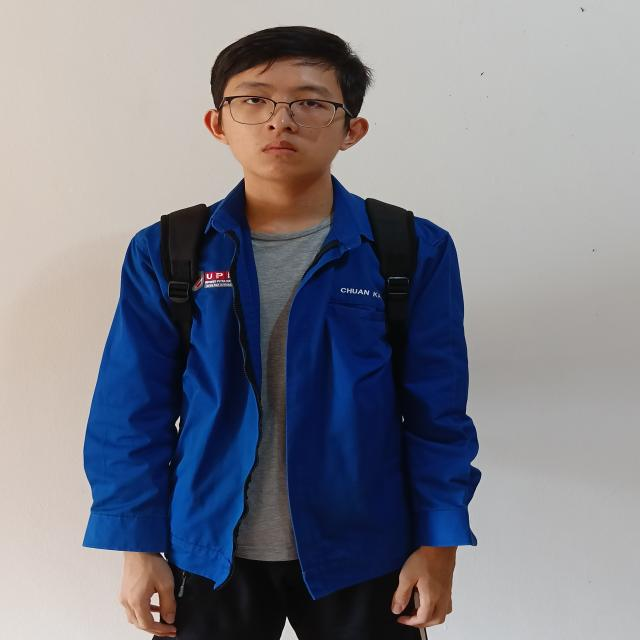person_with_labcoat: (84, 27, 480, 640)
